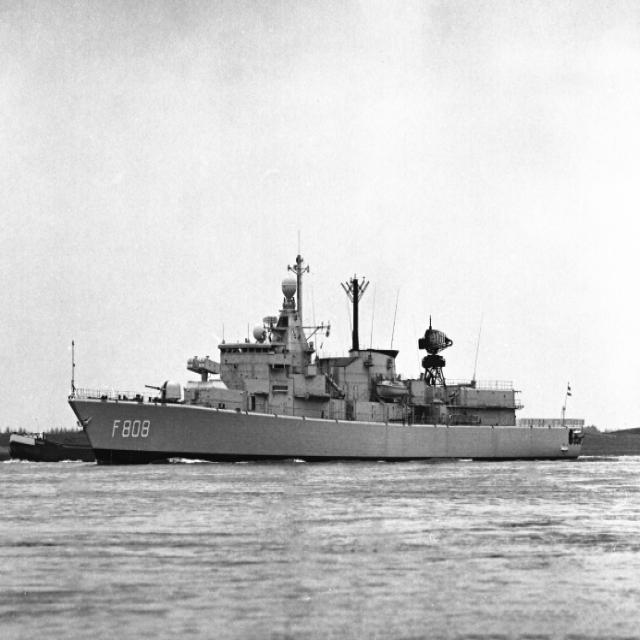Fragata: (60, 239, 593, 476)
